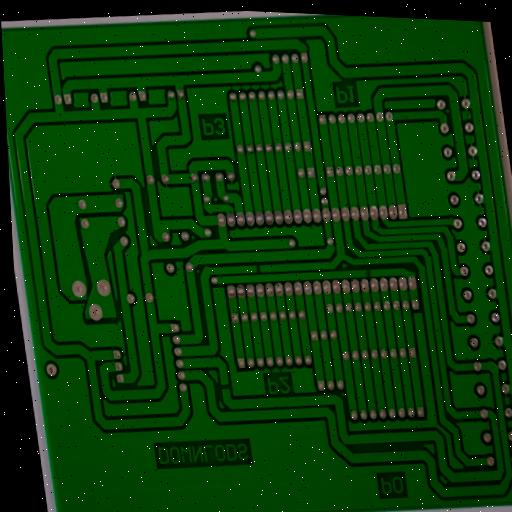open_circuit: (219, 380, 233, 393), (253, 262, 265, 274), (363, 267, 375, 278)
